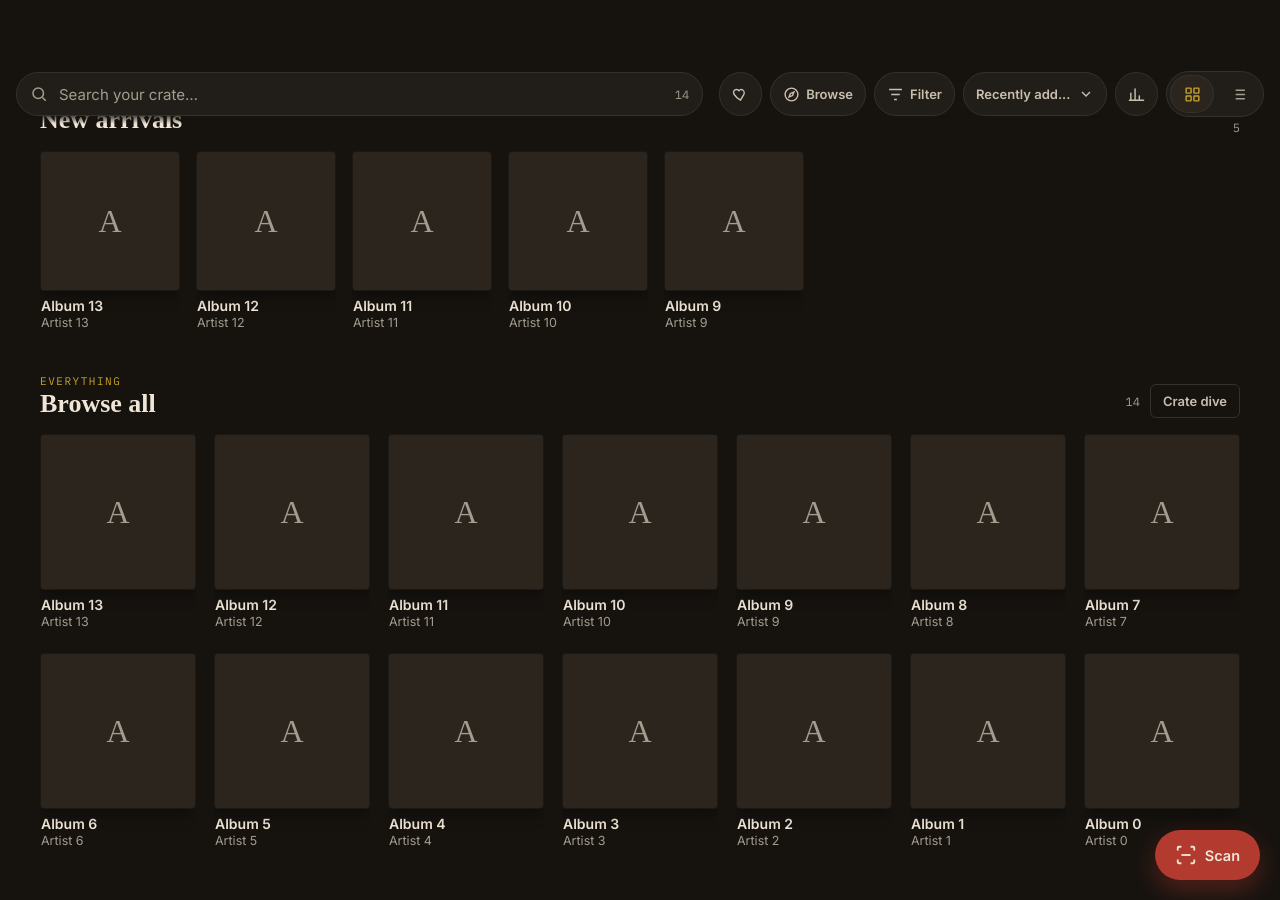
Scenario: CollectionView — The Aisles (§ Phase 2) › composes the aisle filter with search
Expected: the heading "Browse all" is shown, [40,390,156,418]
Click the button "Browse": click(818, 94) [770,72,866,116]
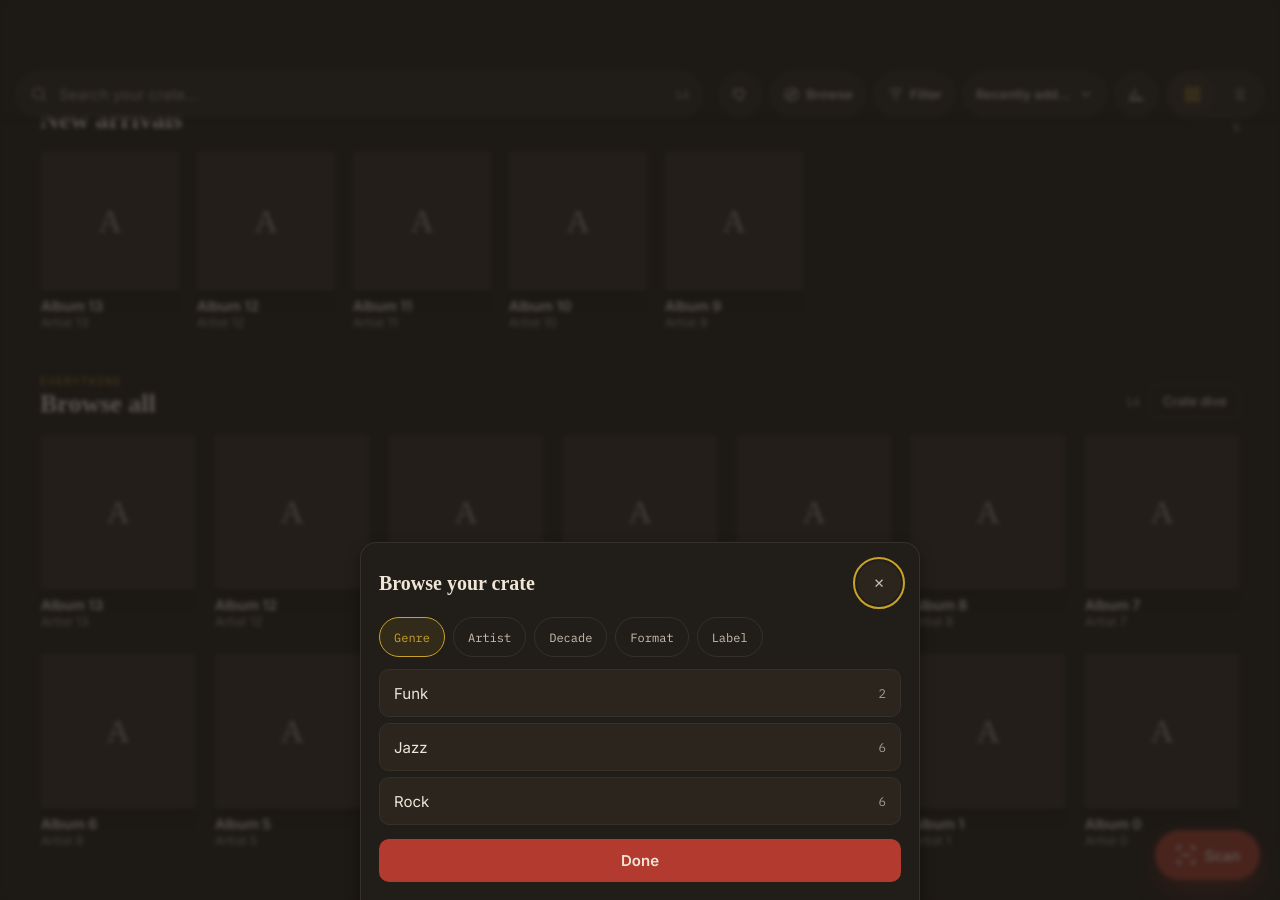
Click the button "Jazz 6": click(411, 747) [379,723,901,771]
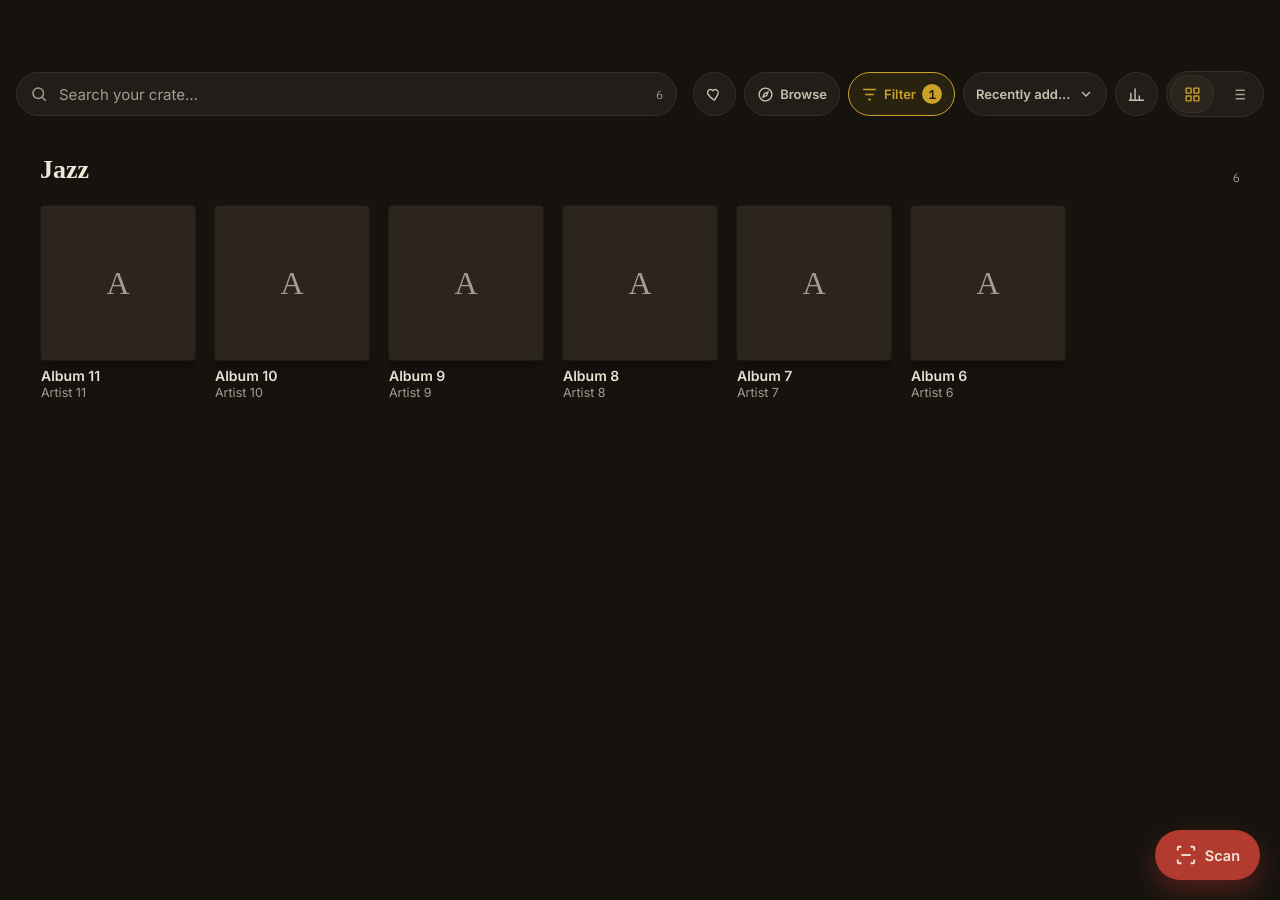
Now the number of buttons with class "album-card" is 6, box [40,205,196,400]; [214,205,370,400]; [388,205,544,400]; [562,205,718,400]; [736,205,892,400]; [910,205,1066,400]
In the field with placeholder "Search your crate…": (347, 94) [16,72,677,116], type "Album 7"
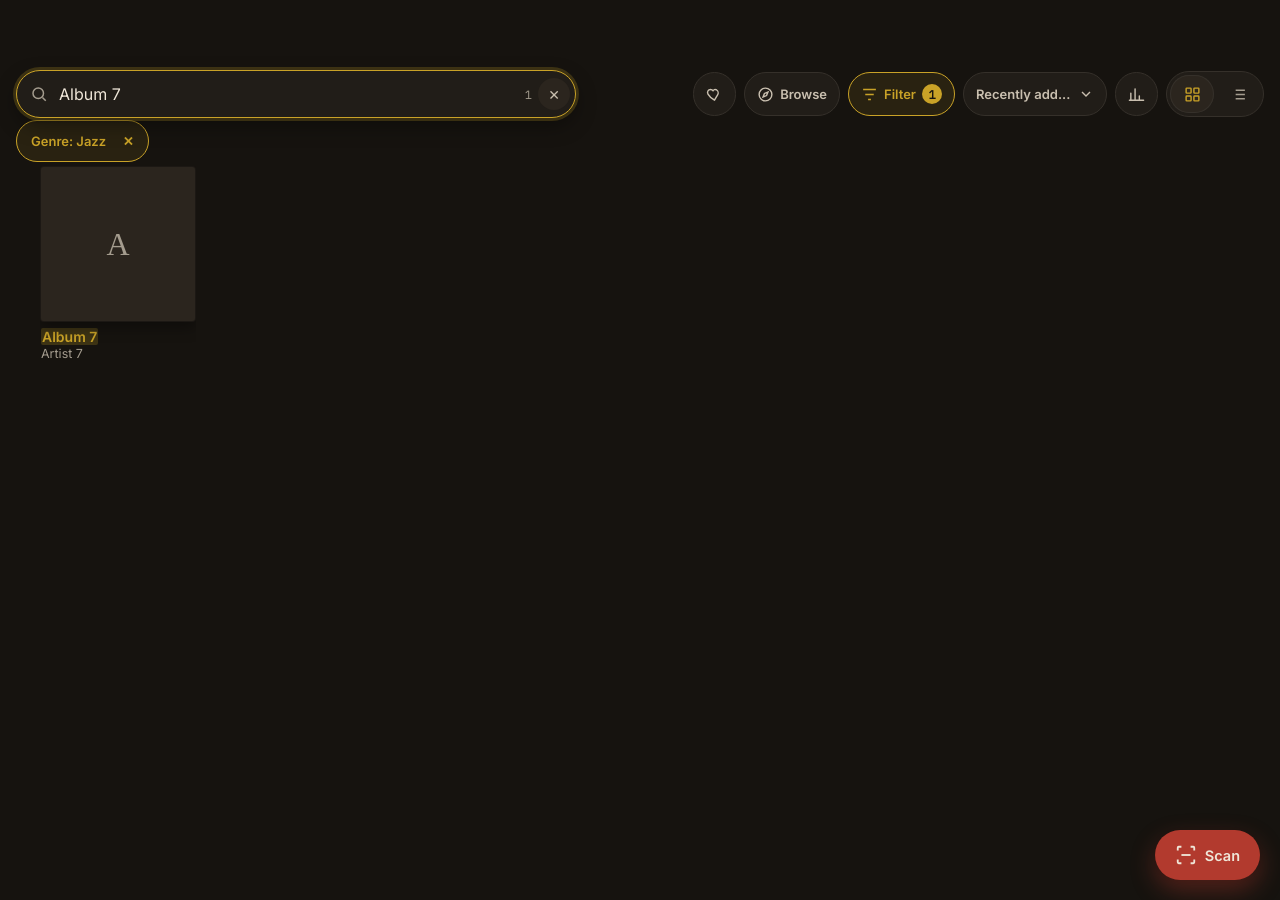
Now the number of buttons with class "album-card" is 1, box [40,166,196,361]
Now the text "Album 7" is shown, box [41,328,98,345]
